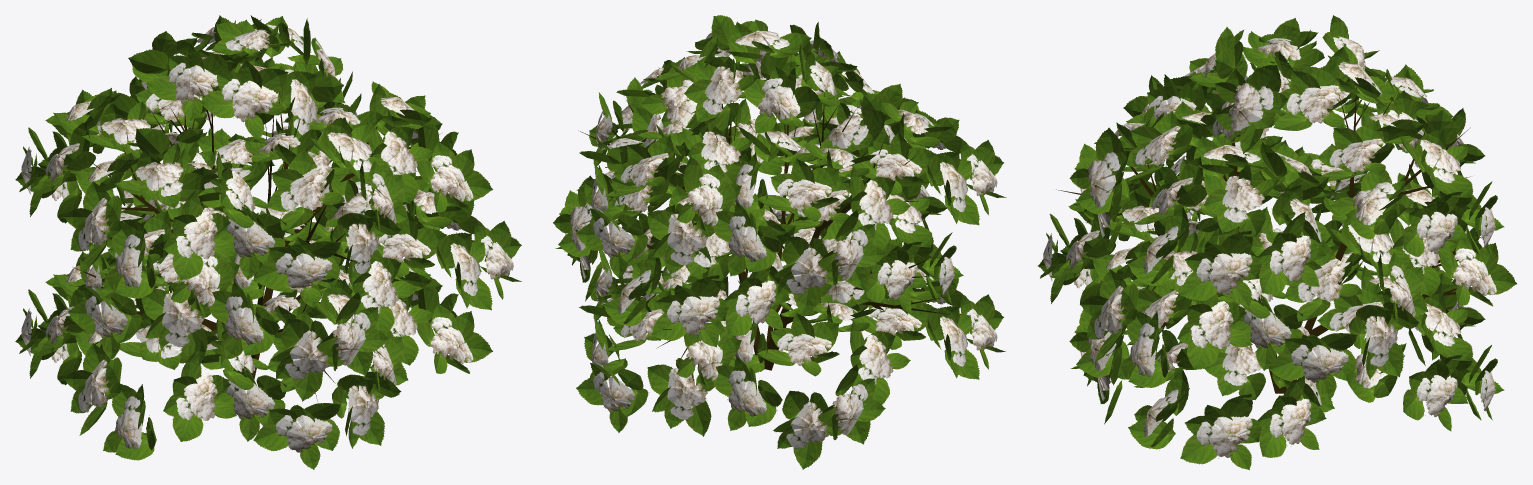
The picture shows the model from 3 angles, left to right: view 1: azimuth 30°, elevation 25°; view 2: azimuth 150°, elevation 25°; view 3: azimuth 270°, elevation 25°; orthographic projection. The views are drawn at different scales.
Parts seen in each view (by area): view 1: Spiraea_Snow_Storm_Flower (×40), Spiraea_Leaf (×21), Spiraea_Snow_Storm_Half_Trunk (×2); view 2: Spiraea_Snow_Storm_Flower (×42), Spiraea_Leaf (×23), Spiraea_Snow_Storm_Half_Trunk (×2); view 3: Spiraea_Snow_Storm_Flower (×38), Spiraea_Leaf (×28), Spiraea_Snow_Storm_Half_Trunk.
Part boxes in pixels (<box>): Spiraea_Snow_Storm_Flower (×40): <box>78,29,513,452</box>; Spiraea_Leaf (×21): <box>115,49,492,460</box>; Spiraea_Snow_Storm_Half_Trunk (×2): <box>50,45,439,401</box>; Spiraea_Snow_Storm_Flower (×42): <box>570,30,997,448</box>; Spiraea_Leaf (×23): <box>603,15,979,469</box>; Spiraea_Snow_Storm_Half_Trunk (×2): <box>578,56,952,371</box>; Spiraea_Snow_Storm_Flower (×38): <box>1087,38,1496,458</box>; Spiraea_Leaf (×28): <box>1076,65,1516,464</box>; Spiraea_Snow_Storm_Half_Trunk: <box>1056,80,1511,393</box>.
Bounding box in the file's own units: 28.84 × 28.6 × 25.35.
3 materials, 2 textured.
